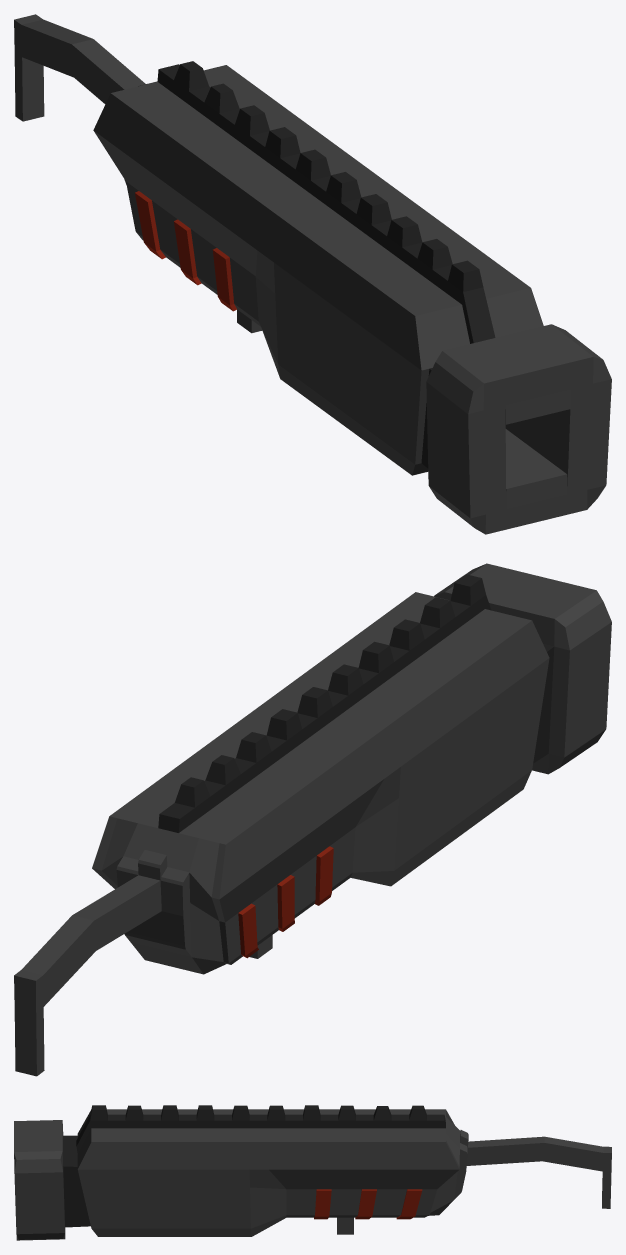
The model's file is Harpon.fbx.
3 renders of one model, top to bottom at view 1: azimuth 30°, elevation 25°; view 2: azimuth 150°, elevation 25°; view 3: azimuth 270°, elevation 25°, orthographic. The views are drawn at different scales.
Visible parts, largest first — view 1: Cube; view 2: Cube; view 3: Cube.
Boxes of the visible parts, box(x1,y1,x2,y2) form: Cube: box(14, 14, 611, 534); Cube: box(14, 563, 611, 1076); Cube: box(14, 1105, 611, 1240).
Bounding box in the file's own units: 56.99 × 80.92 × 353.
1 material, 1 textured.
